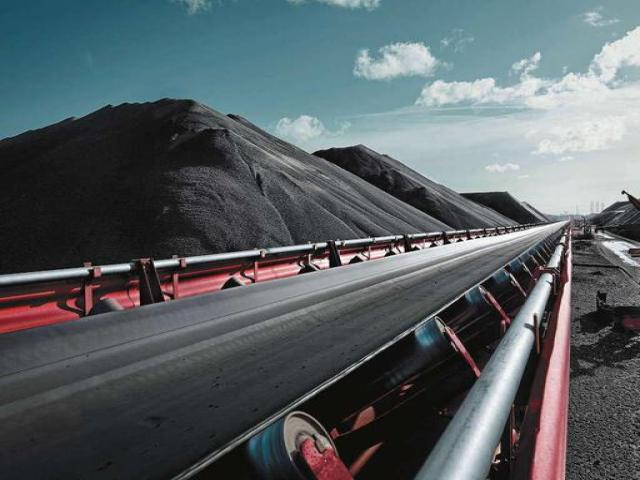conveyor: (0, 216, 575, 479)
